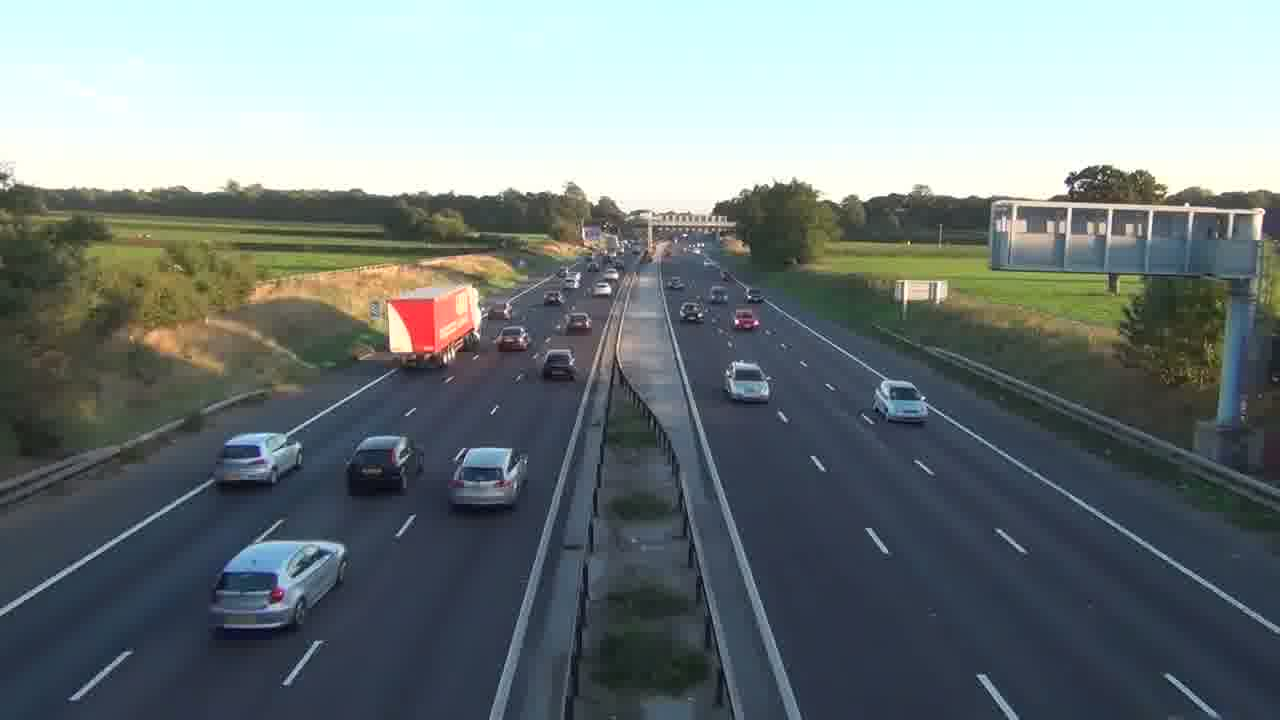car: (207, 538, 349, 636), (212, 431, 305, 487), (448, 446, 529, 510), (345, 433, 423, 494), (873, 379, 929, 424), (723, 360, 773, 404), (541, 348, 577, 381), (496, 325, 531, 352), (733, 307, 760, 331)
truck: (386, 283, 482, 368)
